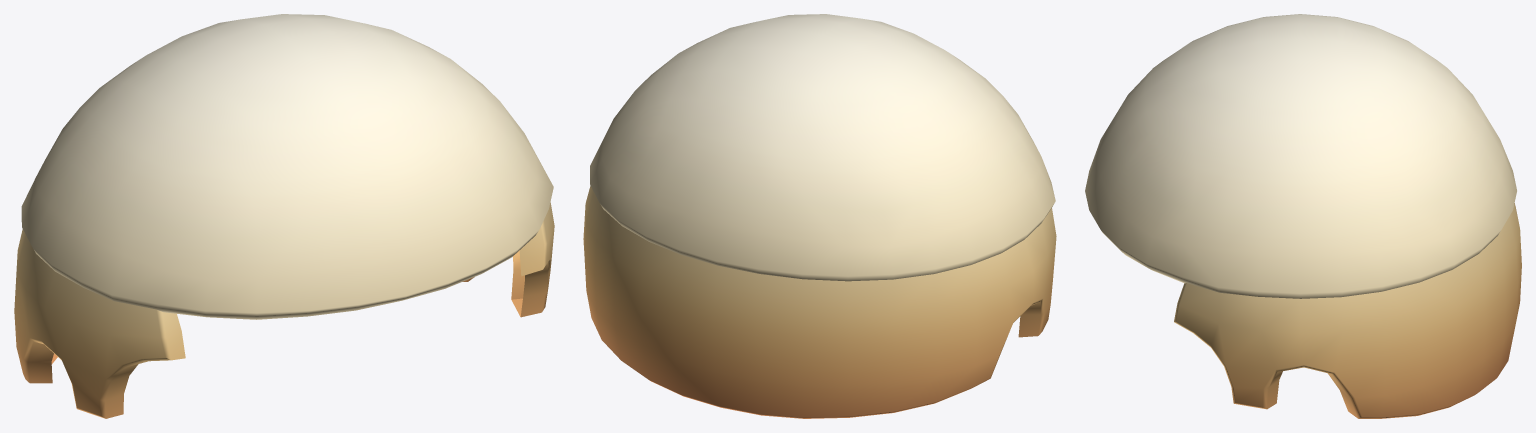
The model's file is Hairstyle_Male_18.glb.
3 renders of one model, left to right at view 1: azimuth 30°, elevation 25°; view 2: azimuth 150°, elevation 25°; view 3: azimuth 270°, elevation 25°, orthographic. The views are drawn at different scales.
Parts seen in each view (by area): view 1: Hairstyle_Male_18; view 2: Hairstyle_Male_18; view 3: Hairstyle_Male_18.
Part boxes in pixels (box(x1,y1,x2,y2)): Hairstyle_Male_18: box(14, 14, 554, 418); Hairstyle_Male_18: box(583, 14, 1056, 418); Hairstyle_Male_18: box(1085, 14, 1521, 418).
Bounding box in the file's own units: 0.6002 × 0.402 × 0.5191.
1 material, 1 textured.
